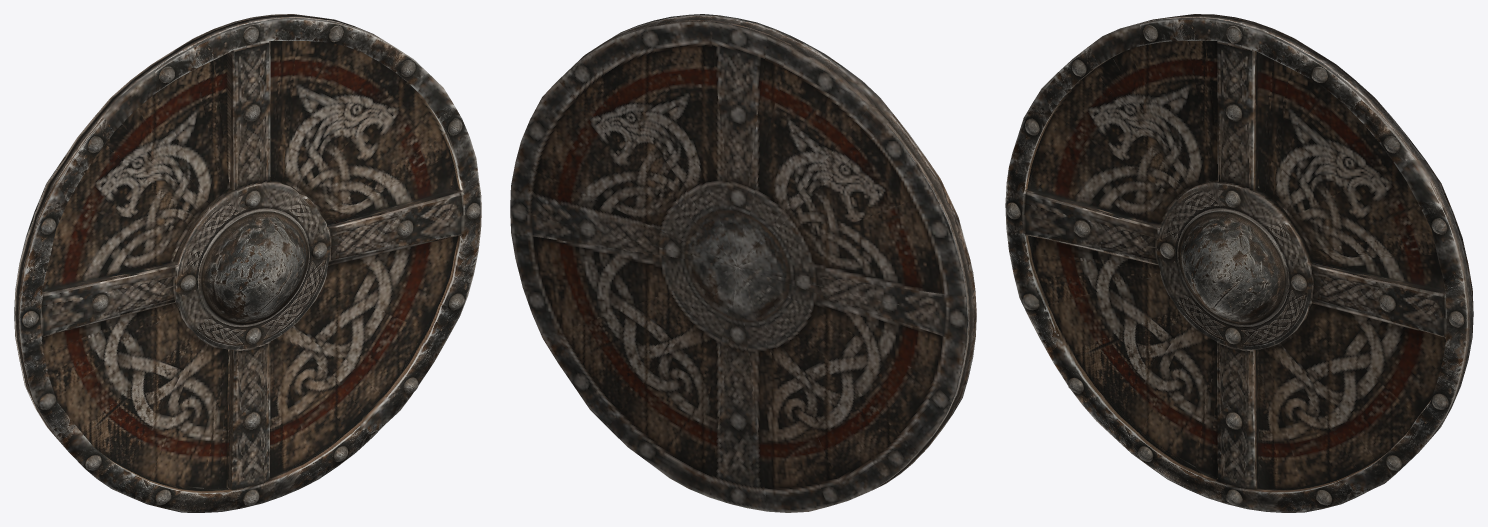
File: viking-dragonward.glb
3 views of the same model, side by side, from view 1: azimuth 30°, elevation 25°; view 2: azimuth 150°, elevation 25°; view 3: azimuth 330°, elevation 25° (orthographic).
Size of the model in its own units: 0.9037 by 0.9 by 0.1076.
Materials: 1 (1 with a texture image).
